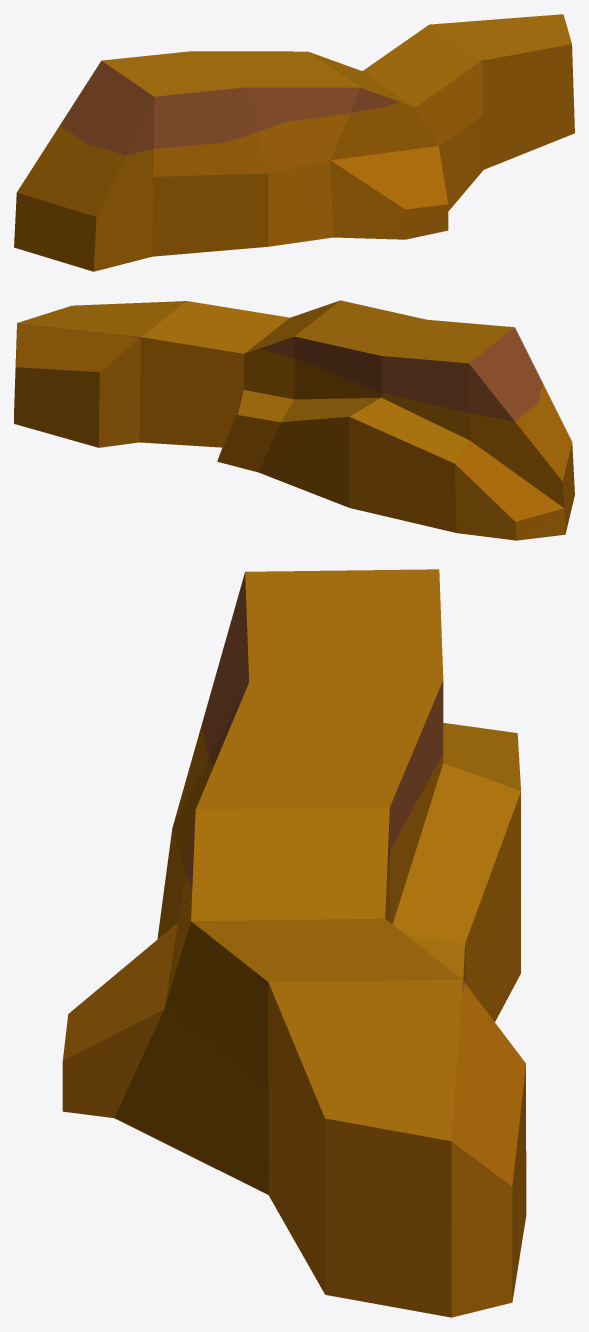
File: cover3.fbx
3 renders of one model, top to bottom at view 1: azimuth 30°, elevation 25°; view 2: azimuth 150°, elevation 25°; view 3: azimuth 270°, elevation 25°, orthographic. The views are drawn at different scales.
Parts seen in each view (by area): view 1: cover3; view 2: cover3; view 3: cover3.
Boxes of the visible parts, x1=… form: cover3: x1=14, y1=14, x2=574, y2=271; cover3: x1=14, y1=300, x2=574, y2=540; cover3: x1=62, y1=569, x2=526, y2=1317.
Size of the model in its own units: 691 by 187 by 256.
